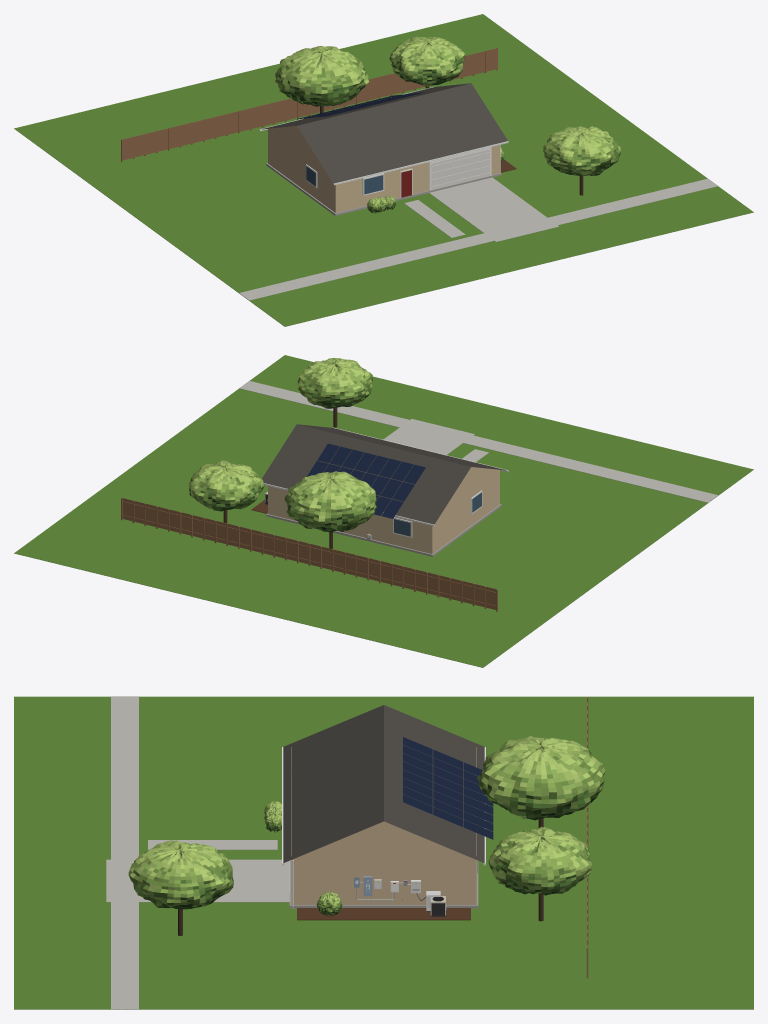
File: home_10_post_install.obj
The picture shows the model from 3 angles, top to bottom: view 1: azimuth 30°, elevation 25°; view 2: azimuth 150°, elevation 25°; view 3: azimuth 270°, elevation 25°; orthographic projection. The views are drawn at different scales.
Visible parts, largest first — view 1: yard, house, tree_3, tree_2, tree_1, solar_array; view 2: yard, house, tree_3, solar_array, tree_2, tree_1; view 3: yard, house, tree_3, tree_2, solar_array, tree_1, mulch_bed_side.
Part boxes in pixels (x1=…): yard: x1=14, y1=14, x2=753, y2=326; house: x1=259, y1=83, x2=508, y2=215; tree_3: x1=275, y1=46, x2=369, y2=113; tree_2: x1=543, y1=126, x2=620, y2=195; tree_1: x1=389, y1=36, x2=464, y2=88; solar_array: x1=297, y1=92, x2=424, y2=119; yard: x1=14, y1=355, x2=753, y2=667; house: x1=262, y1=424, x2=508, y2=556; tree_3: x1=284, y1=471, x2=376, y2=548; solar_array: x1=307, y1=443, x2=425, y2=518; tree_2: x1=297, y1=358, x2=372, y2=427; tree_1: x1=189, y1=460, x2=264, y2=523; yard: x1=14, y1=696, x2=753, y2=1009; house: x1=282, y1=705, x2=485, y2=908; tree_3: x1=476, y1=736, x2=605, y2=827; tree_2: x1=128, y1=840, x2=233, y2=935; solar_array: x1=403, y1=737, x2=493, y2=839; tree_1: x1=488, y1=826, x2=592, y2=921; mulch_bed_side: x1=297, y1=908, x2=470, y2=920.
Bounding box in the file's own units: 40 × 6.29 × 40.
